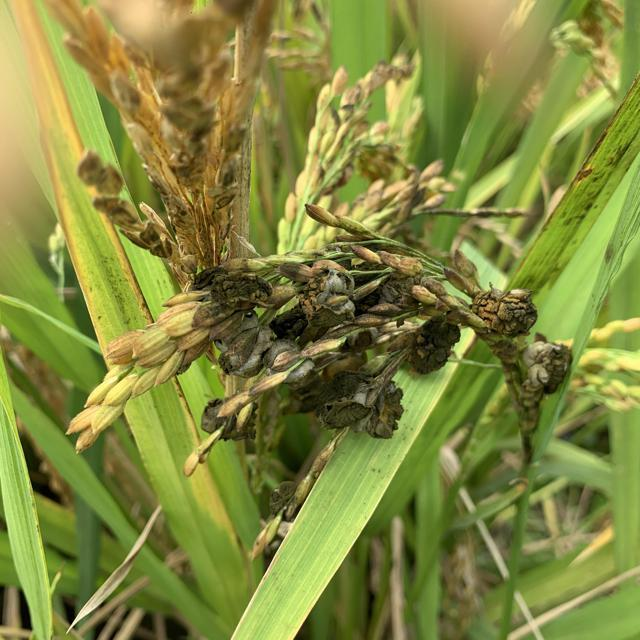Leaf_Scald: (196, 267, 462, 441), (472, 282, 538, 339), (517, 338, 574, 393)
